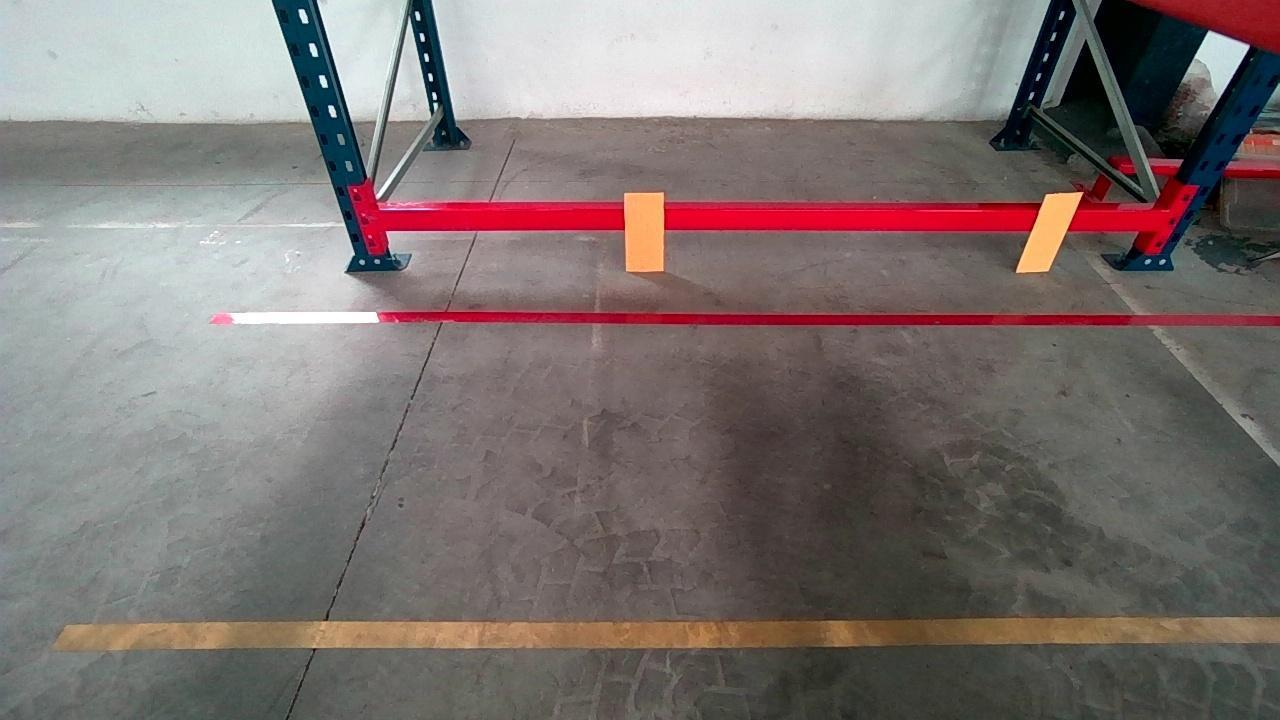h_rack: (382, 197, 1156, 234)
orange_strip: (1016, 192, 1084, 270), (625, 191, 665, 270)
red_line: (214, 305, 1277, 329)
yellow_line: (64, 611, 1279, 655)
